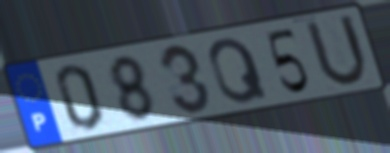0: (54, 62, 108, 134)
3: (157, 41, 213, 117)
5: (261, 25, 312, 95)
8: (107, 52, 159, 125)
Q: (206, 35, 272, 107)
U: (301, 12, 371, 90)
